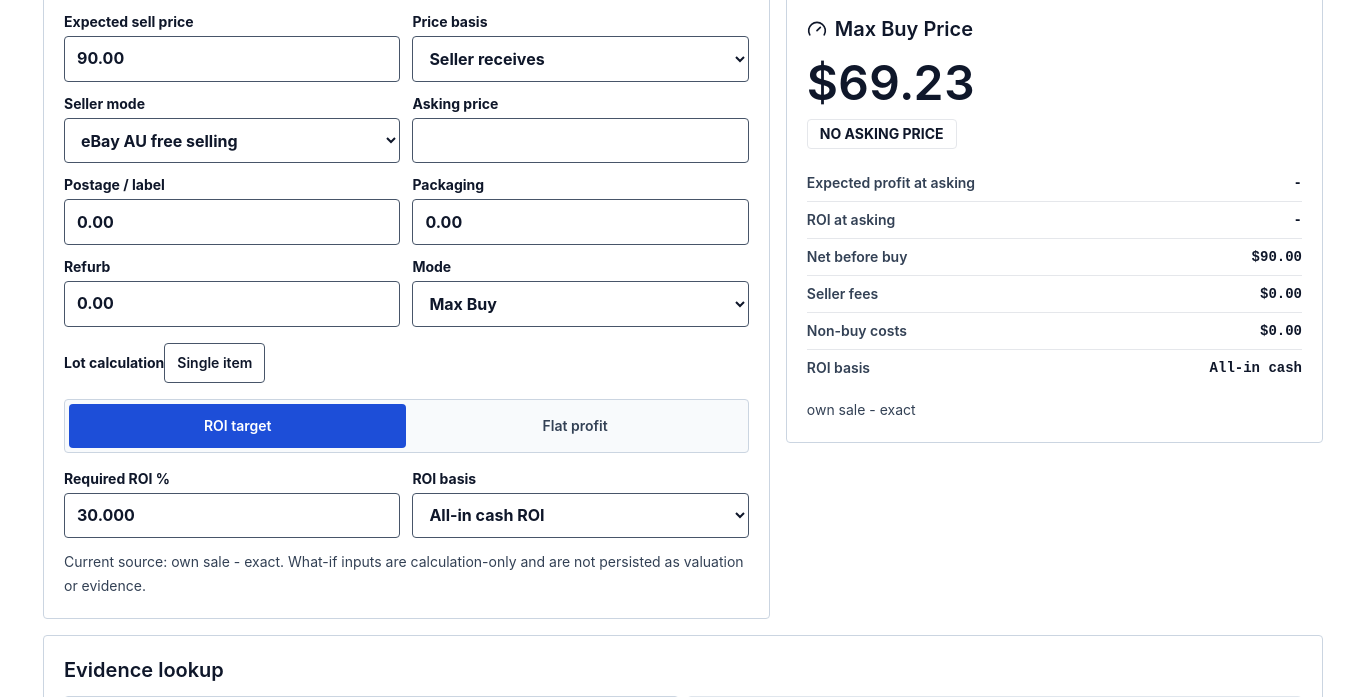
Test: BuyCalculator Lot mode reuses the same max-buy engine for total resale
(page scrolled)
Check: the field showing "90.00" is shown, box [64, 36, 400, 82]
Click the button named "Lot calculation" at x=215, y=363, box [164, 343, 265, 383]
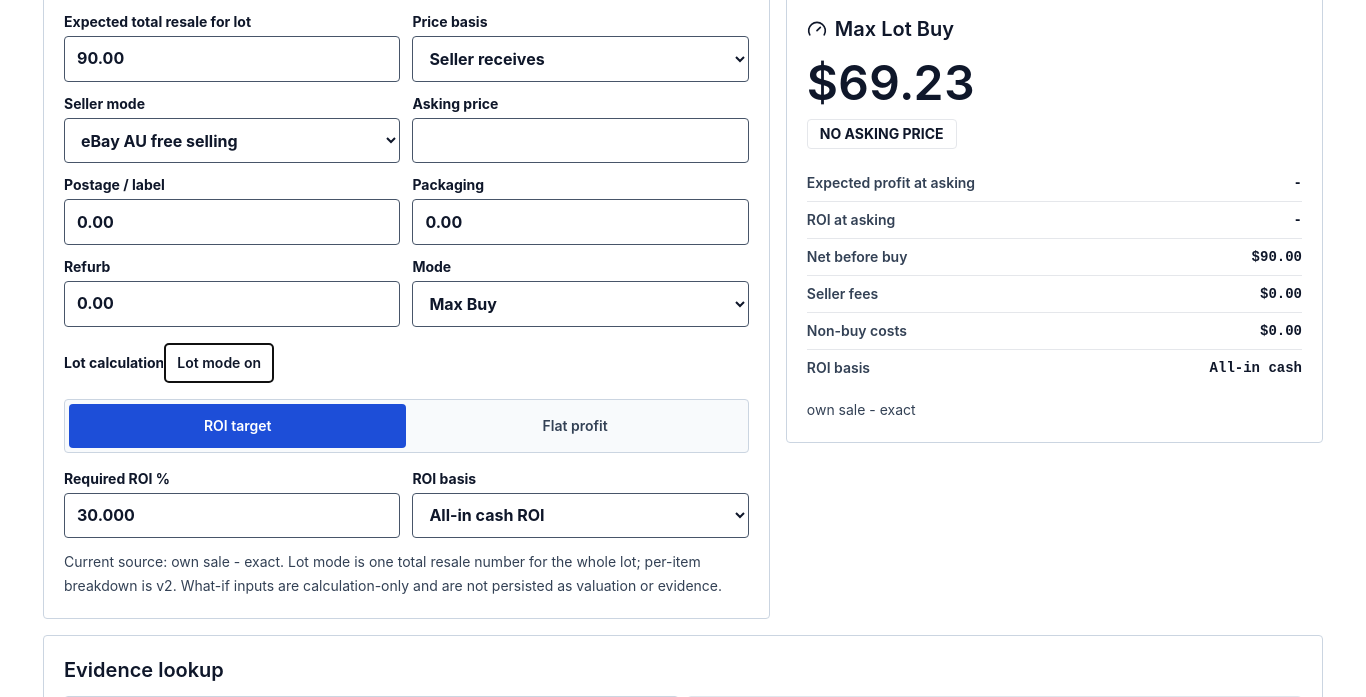
Replace the text in the field labelled "Expected total resale for lot" with "100" at x=232, y=59, box [64, 36, 400, 82]
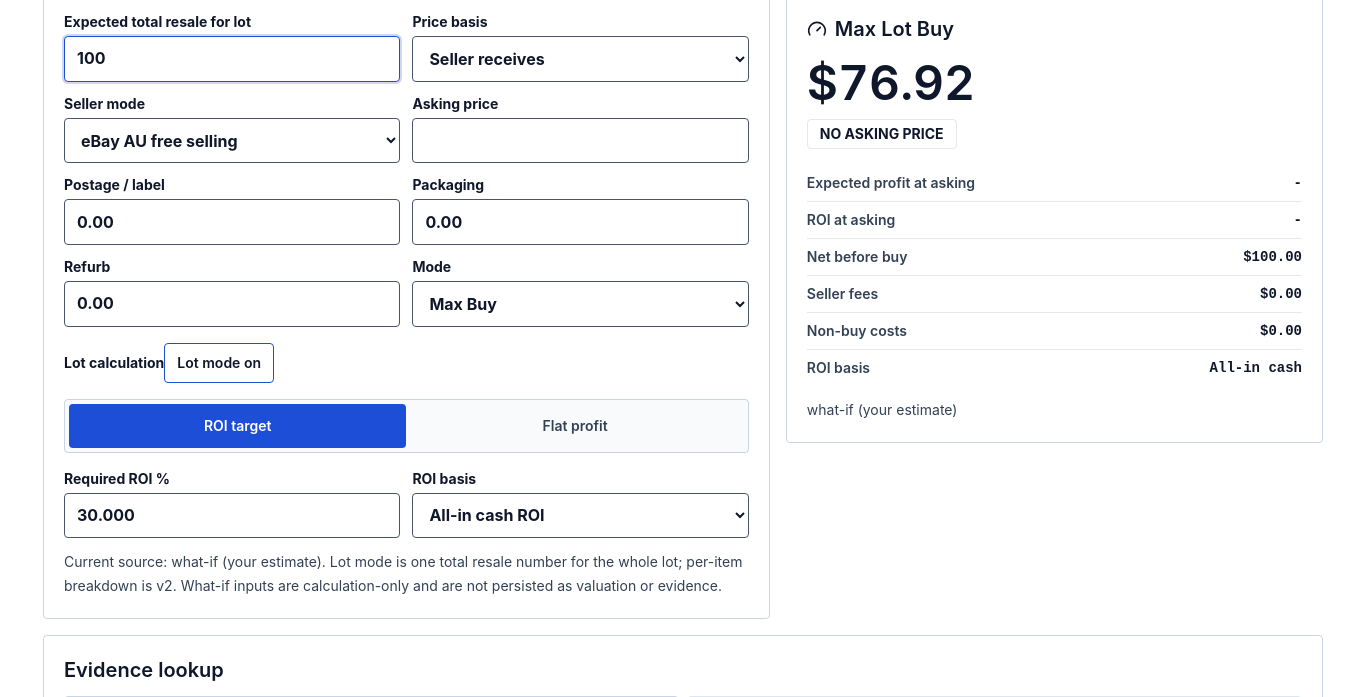
Check: the heading "Max Lot Buy" is shown, box [835, 15, 954, 43]
Check: the text "Lot mode is one total resale number" is shown, box [64, 553, 742, 594]
Check: the text "$76.92" is shown, box [807, 53, 975, 112]
